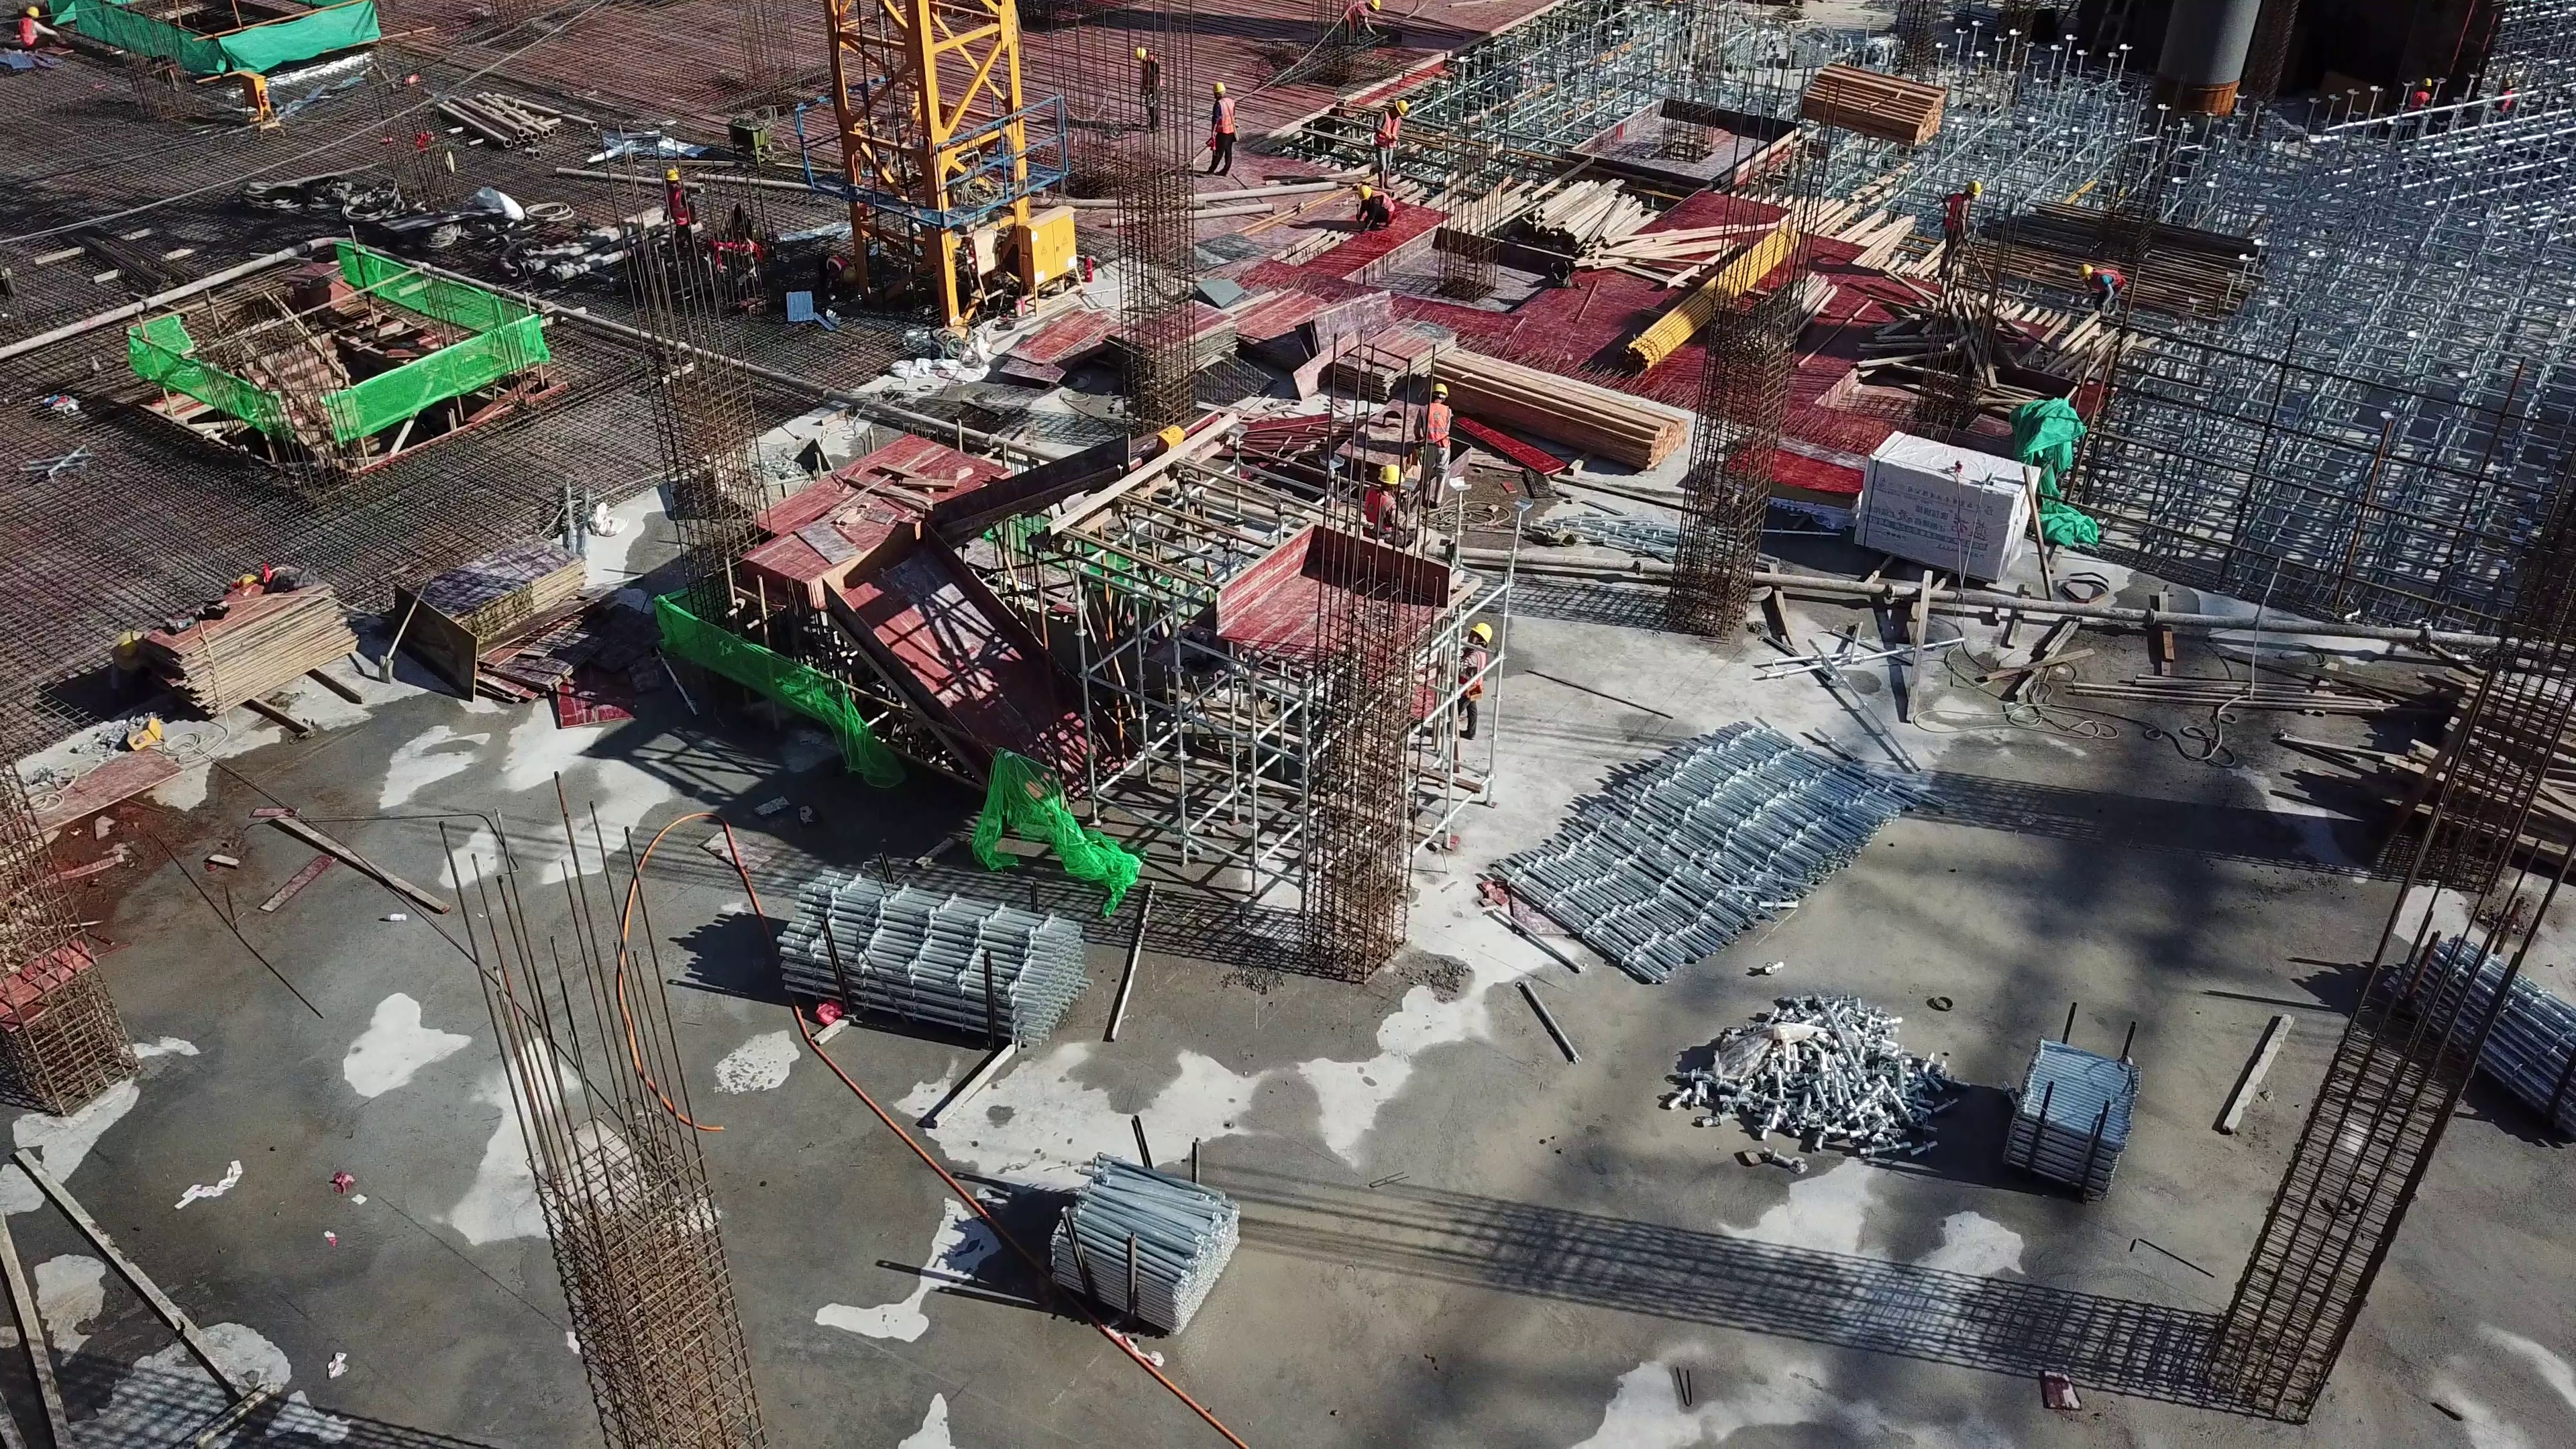board: (385, 532, 600, 712), (154, 552, 344, 718)
person: (1409, 368, 1461, 491), (1199, 65, 1245, 191), (1364, 91, 1414, 193), (1942, 176, 1986, 284), (653, 152, 697, 249), (1374, 479, 1420, 549), (2085, 258, 2123, 333), (1132, 39, 1167, 123)
scaffold: (1490, 712, 1913, 975), (770, 876, 1085, 1069), (2389, 926, 2576, 1142), (1047, 1165, 1251, 1334), (2015, 1030, 2138, 1194)
wood: (1405, 357, 1682, 474), (1534, 179, 1738, 292)
